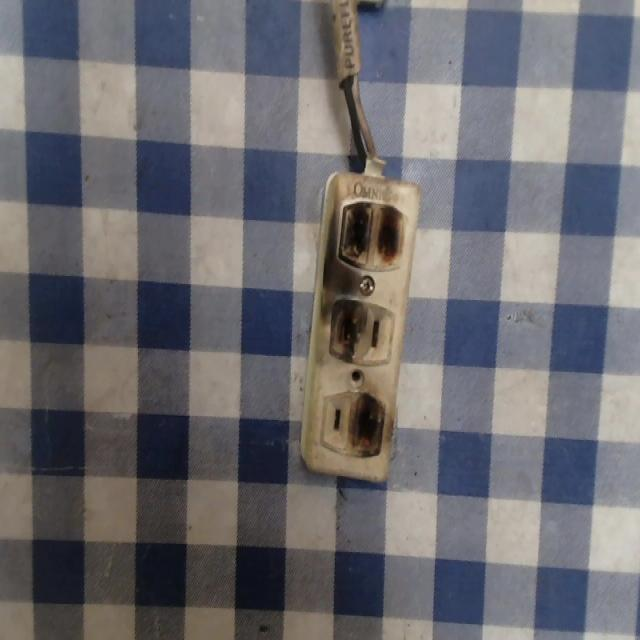-: (337, 193, 407, 272), (348, 387, 389, 457), (323, 295, 363, 360)
